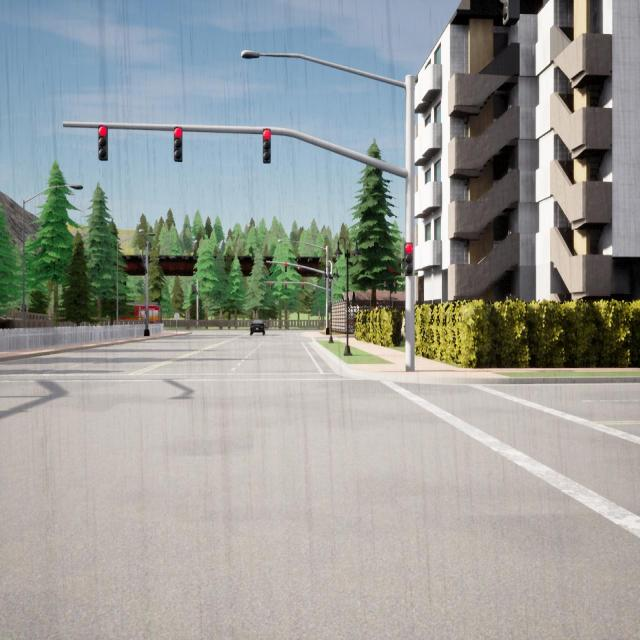Traffic_Signs: (174, 313, 179, 320)
Vehicle: (118, 302, 162, 324), (250, 320, 265, 336)
traffic_light: (499, 0, 519, 26), (98, 125, 108, 161), (173, 126, 183, 162), (404, 243, 413, 275), (263, 129, 271, 163), (285, 262, 287, 272), (285, 282, 287, 290), (302, 282, 304, 290), (270, 282, 272, 289), (198, 306, 200, 312), (192, 285, 193, 293), (194, 286, 195, 293)
